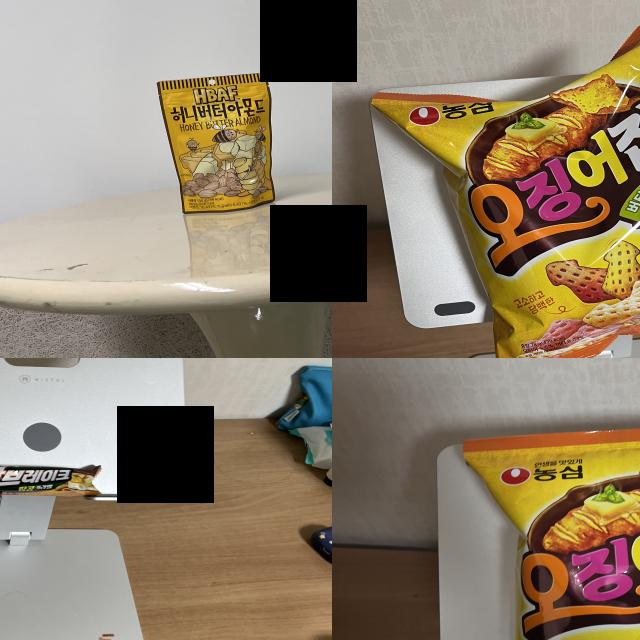honeyAmond: (174, 80, 269, 212)
hotBreak: (0, 462, 103, 494)
ozingZip: (465, 80, 640, 357), (488, 443, 640, 640)
